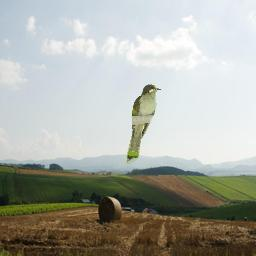Cuckoo: (126, 84, 162, 164)
